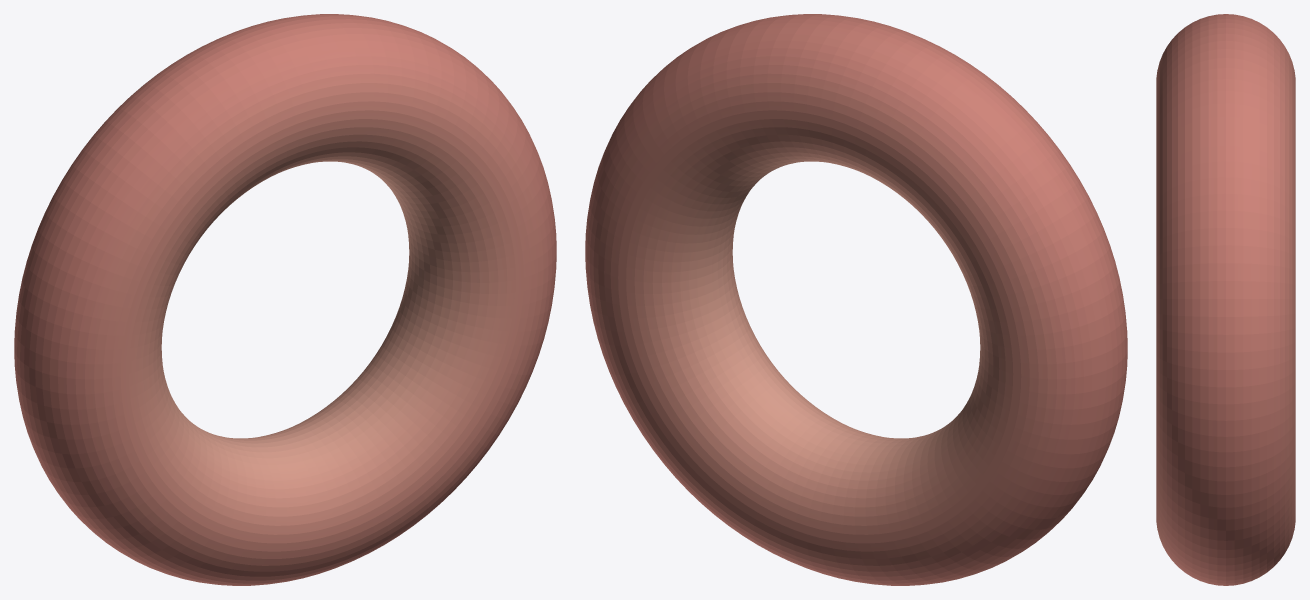
3 views of the same model, side by side, from view 1: azimuth 30°, elevation 25°; view 2: azimuth 150°, elevation 25°; view 3: azimuth 270°, elevation 25° (orthographic). The views are drawn at different scales.
Visible parts, largest first — view 1: world; view 2: world; view 3: world.
Part boxes in pixels (bbox=[...]): world: bbox=[14, 14, 556, 585]; world: bbox=[585, 14, 1127, 585]; world: bbox=[1156, 14, 1295, 585].
Size of the model in its own units: 30 by 30 by 7.32.
